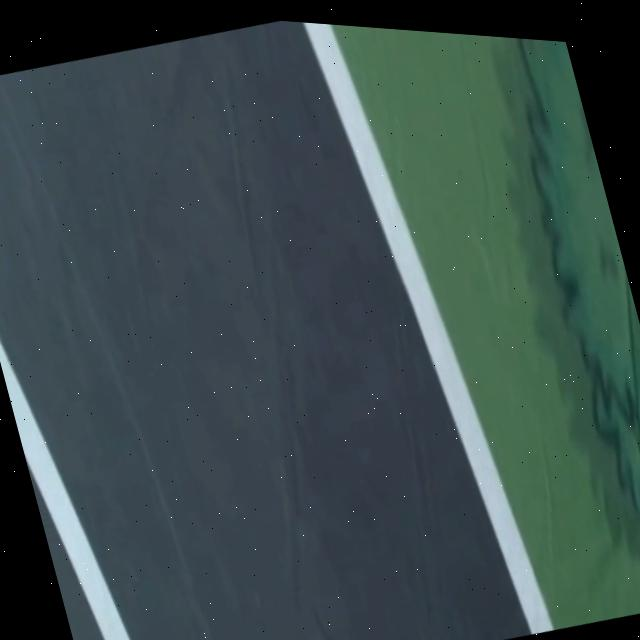right: (303, 22, 553, 634)
